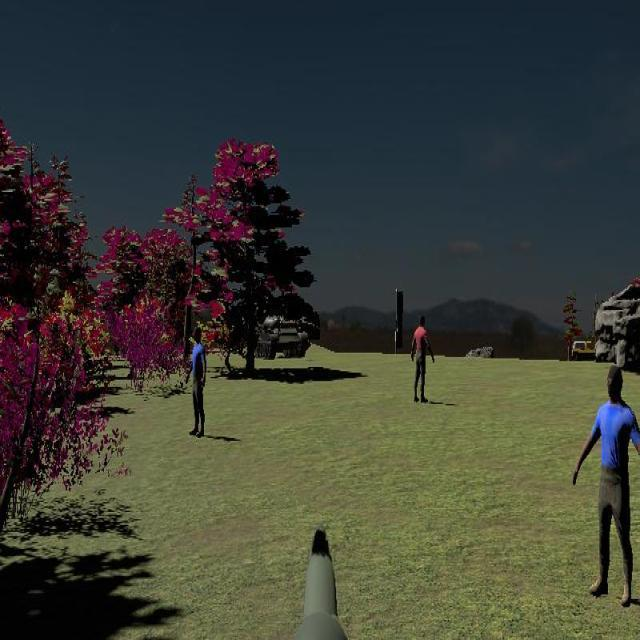Human: (572, 364, 640, 604), (185, 326, 206, 436), (411, 315, 434, 403)
Tank: (248, 312, 311, 360)
